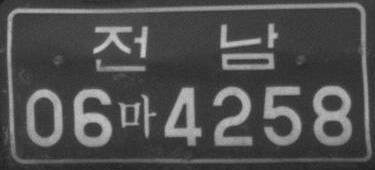0: (25, 87, 63, 148)
2: (212, 85, 253, 148)
4: (164, 86, 202, 146)
5: (263, 84, 303, 145)
6: (72, 87, 112, 147)
8: (311, 84, 353, 147)
마: (117, 93, 156, 138)
전남_D: (93, 21, 279, 73)
